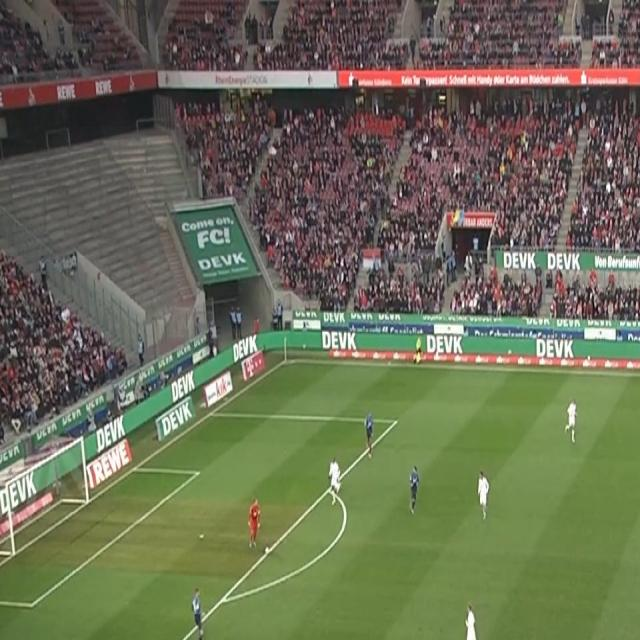ball: (264, 545, 269, 555)
